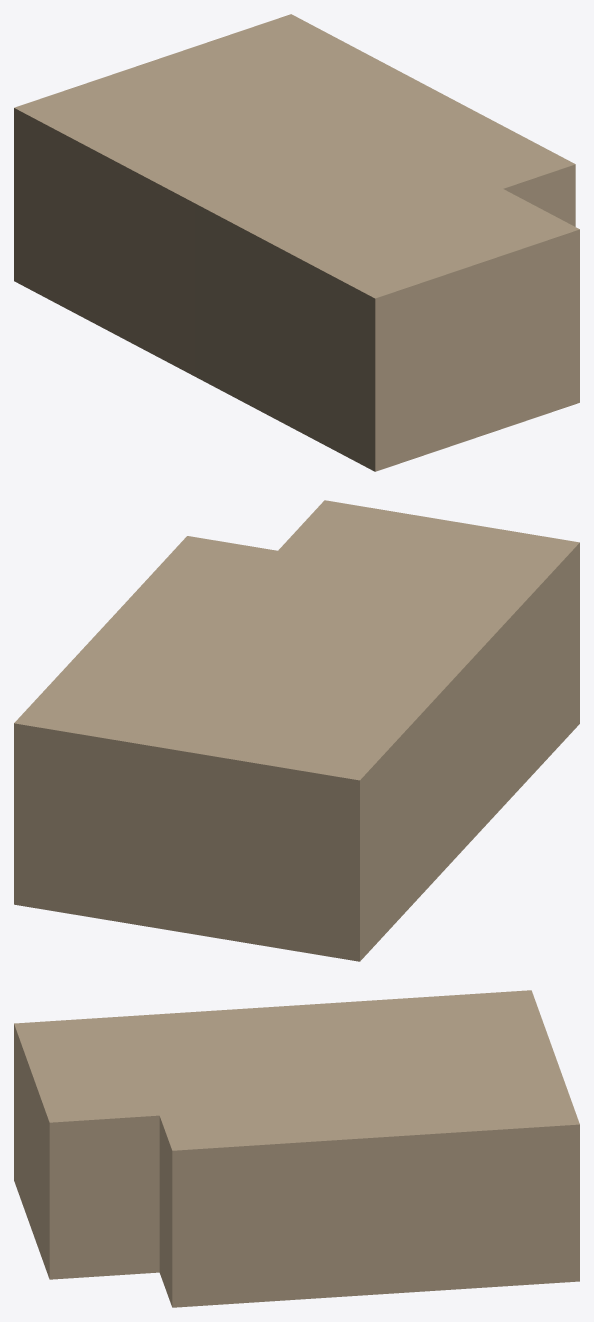
The model's file is bld_106466789.dae.
3 views of the same model, one above another, from view 1: azimuth 30°, elevation 25°; view 2: azimuth 150°, elevation 25°; view 3: azimuth 270°, elevation 25° (orthographic). The views are drawn at different scales.
Parts seen in each view (by area): view 1: Maldon Marine; view 2: Maldon Marine; view 3: Maldon Marine.
Boxes of the visible parts, x1,y1,x2,y2 form: Maldon Marine: (14, 14, 579, 471); Maldon Marine: (14, 500, 579, 961); Maldon Marine: (14, 990, 579, 1307).
Size of the model in its own units: 17.55 by 26.14 by 8.
